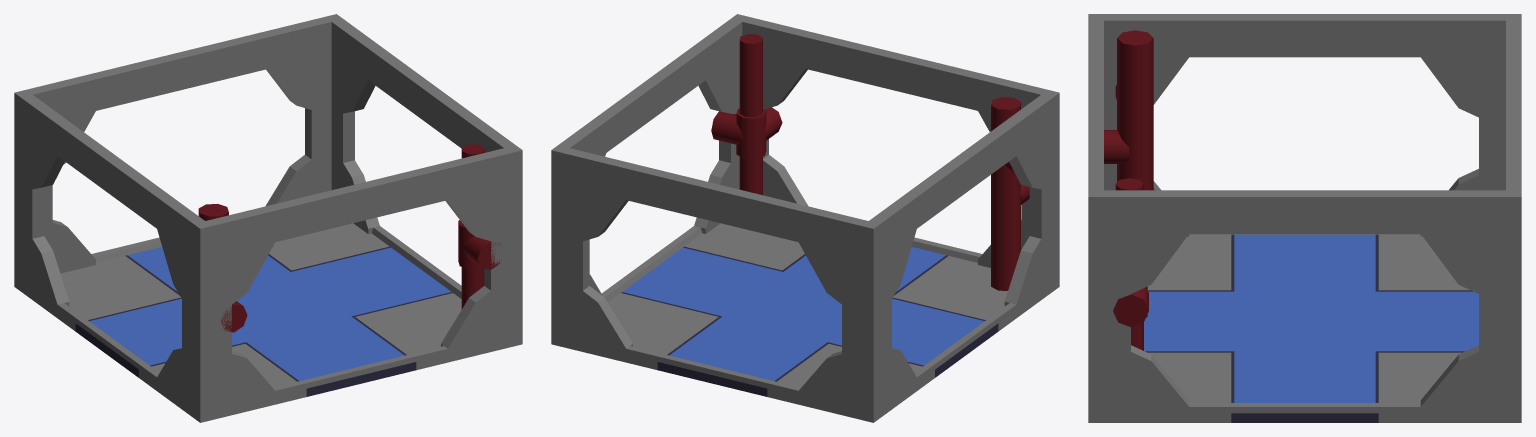
Rendered from Path_Center.glb.
The picture shows the model from 3 angles, left to right: view 1: azimuth 30°, elevation 25°; view 2: azimuth 150°, elevation 25°; view 3: azimuth 270°, elevation 25°; orthographic projection. The views are drawn at different scales.
Visible parts, largest first — view 1: Path_Center; view 2: Path_Center; view 3: Path_Center.
Boxes of the visible parts, x1,y1,x2,y2 form: Path_Center: (14,14,522,422); Path_Center: (551,14,1059,422); Path_Center: (1088,14,1521,422).
Bounding box in the file's own units: 8 × 4.6 × 8.
